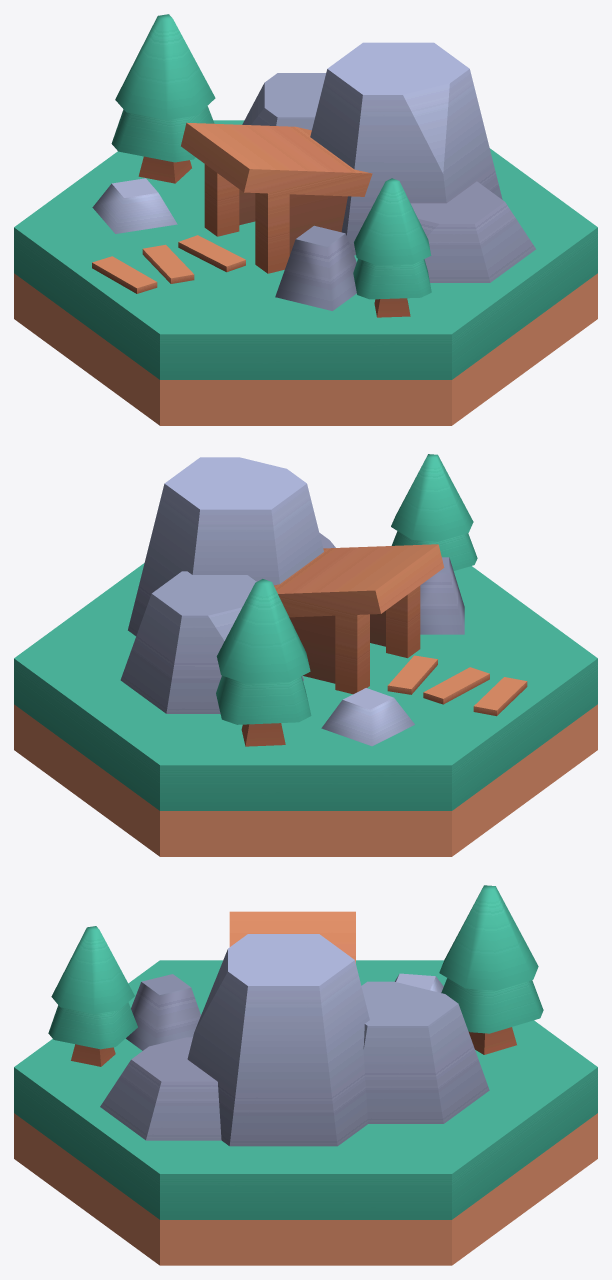
The model's file is building-mine.glb.
3 renders of one model, top to bottom at view 1: azimuth 30°, elevation 25°; view 2: azimuth 150°, elevation 25°; view 3: azimuth 270°, elevation 25°, orthographic.
Parts seen in each view (by area): view 1: building-mine; view 2: building-mine; view 3: building-mine.
Part boxes in pixels (box(x1,y1,x2,y2)): building-mine: box(14, 14, 597, 425); building-mine: box(14, 454, 597, 856); building-mine: box(14, 885, 597, 1265).
Bounding box in the file's own units: 1 × 0.5382 × 1.15.
Materials: 1 (1 with a texture image).
